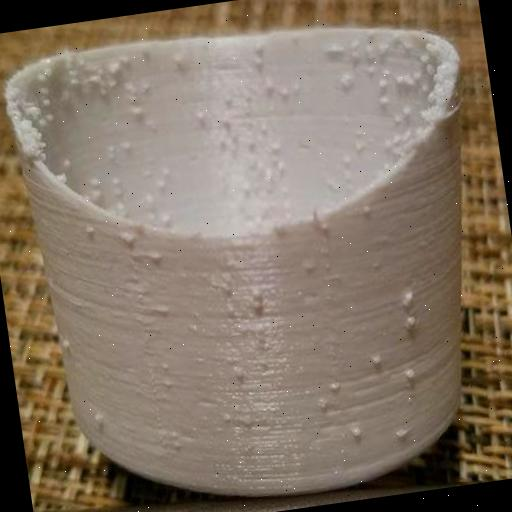blobs: (294, 288, 454, 459), (324, 24, 455, 150), (213, 66, 305, 180), (287, 202, 391, 282), (80, 218, 172, 306), (92, 55, 182, 141), (84, 400, 120, 446)
